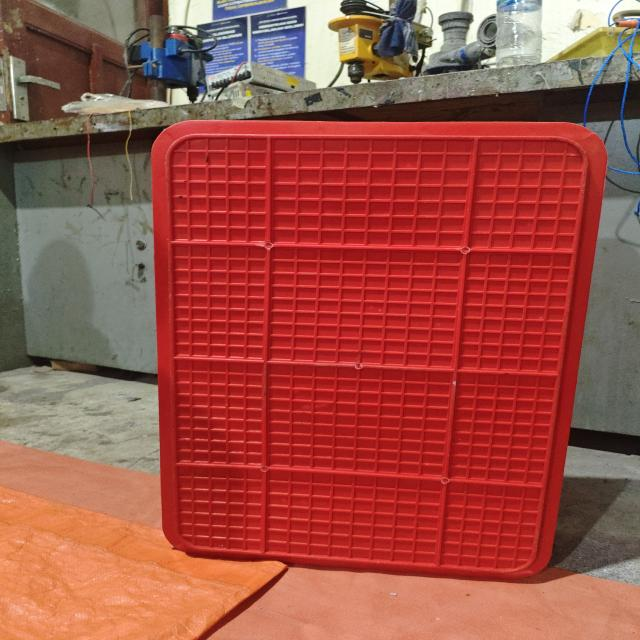red plastic box: (151, 119, 607, 580)
